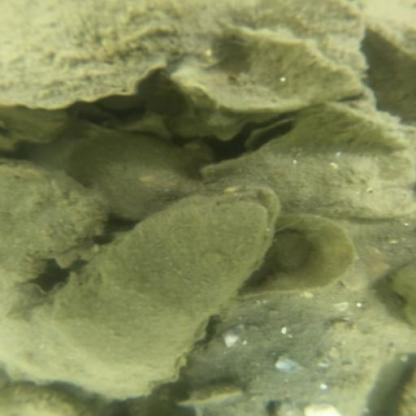3: (34, 184, 285, 392), (161, 36, 379, 138)
Oyster-Closed: (0, 0, 376, 109), (203, 107, 410, 217), (290, 100, 409, 152)
Oyster-Open: (3, 157, 107, 284), (67, 130, 194, 214)
